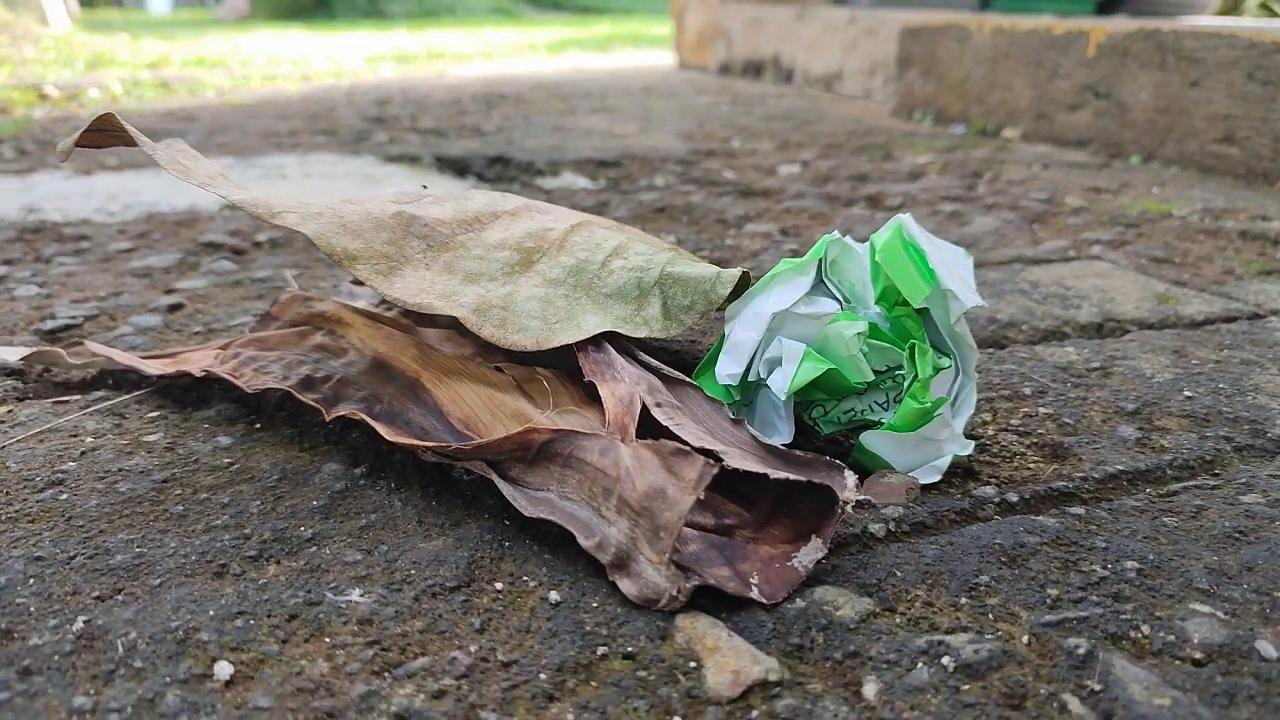Paper: (704, 184, 991, 504)
